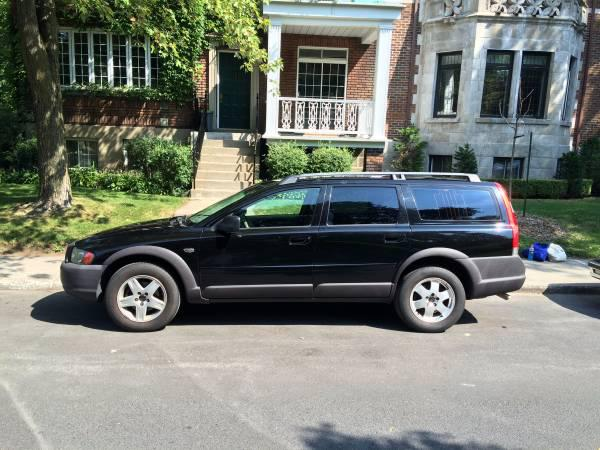volvo: (29, 150, 533, 336)
